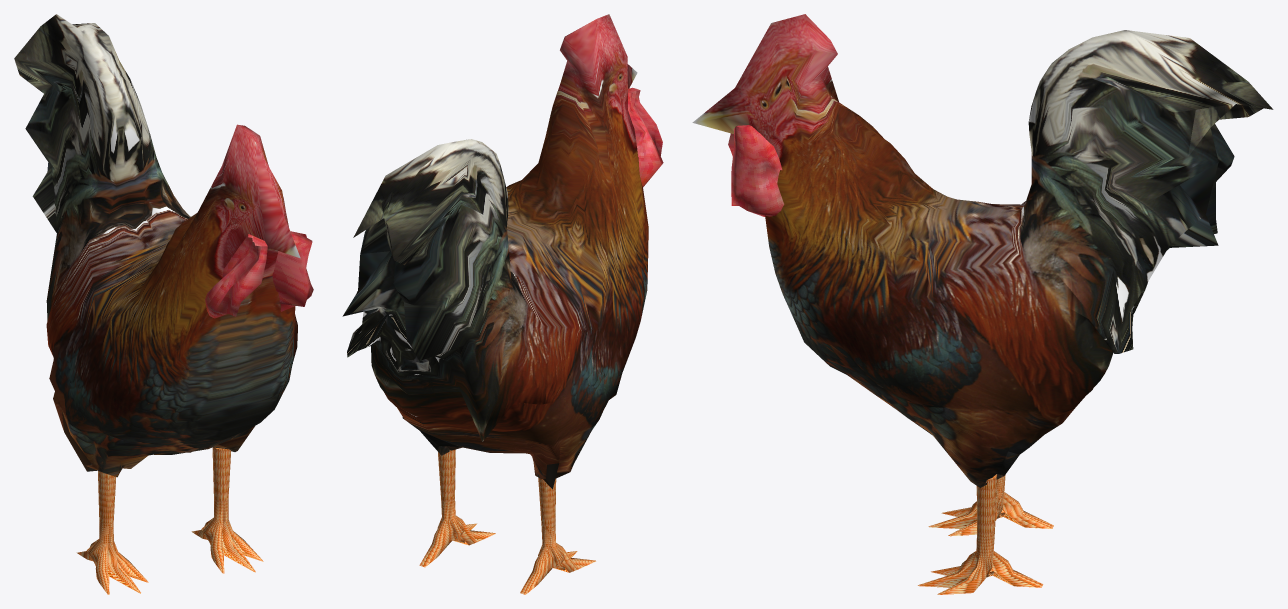
The model's file is rooster[1]Basic.FBX.
3 renders of one model, left to right at view 1: azimuth 30°, elevation 25°; view 2: azimuth 150°, elevation 25°; view 3: azimuth 270°, elevation 25°, orthographic. The views are drawn at different scales.
Parts seen in each view (by area): view 1: Rooster_0, Cone03, Cone02, Cone01; view 2: Rooster_0, Cone02, Cone01, Cone03; view 3: Rooster_0, Cone03, Cone02, Cone01.
Boxes of the visible parts, x1,y1,x2,y2 form: Rooster_0: [14, 14, 300, 477]; Cone03: [205, 231, 313, 318]; Cone02: [191, 447, 263, 573]; Cone01: [76, 471, 148, 594]; Rooster_0: [342, 14, 648, 489]; Cone02: [419, 449, 495, 567]; Cone01: [520, 477, 595, 594]; Cone03: [628, 87, 663, 187]; Rooster_0: [692, 14, 1273, 487]; Cone03: [728, 125, 784, 216]; Cone02: [918, 474, 1043, 594]; Cone01: [928, 475, 1053, 536].
Size of the model in its own units: 18.38 by 44.5 by 43.75.
3 materials, 3 textured.
